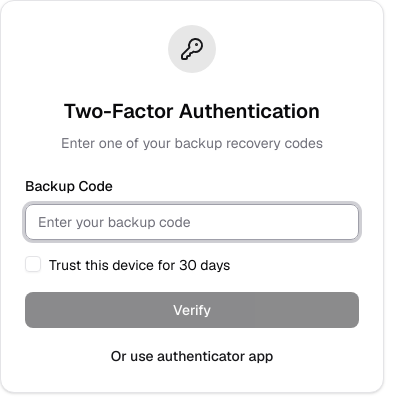
2FA Verification Components › BackupCodeVerificationForm › verify button is enabled after typing code
This screenshot has width=401, height=411.
Type "BACKUP123" into the field with placeholder "Enter your backup code".
click(192, 222); type("BACKUP123")  # box [25,204,359,240]
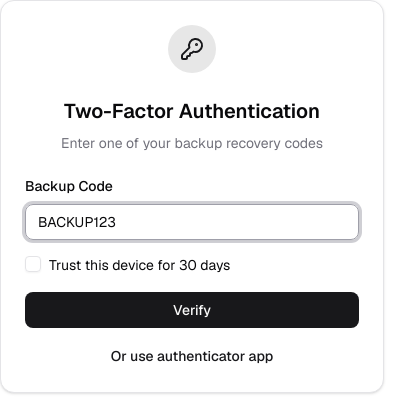
Now the button "Verify" is enabled, box [25,292,359,328]
